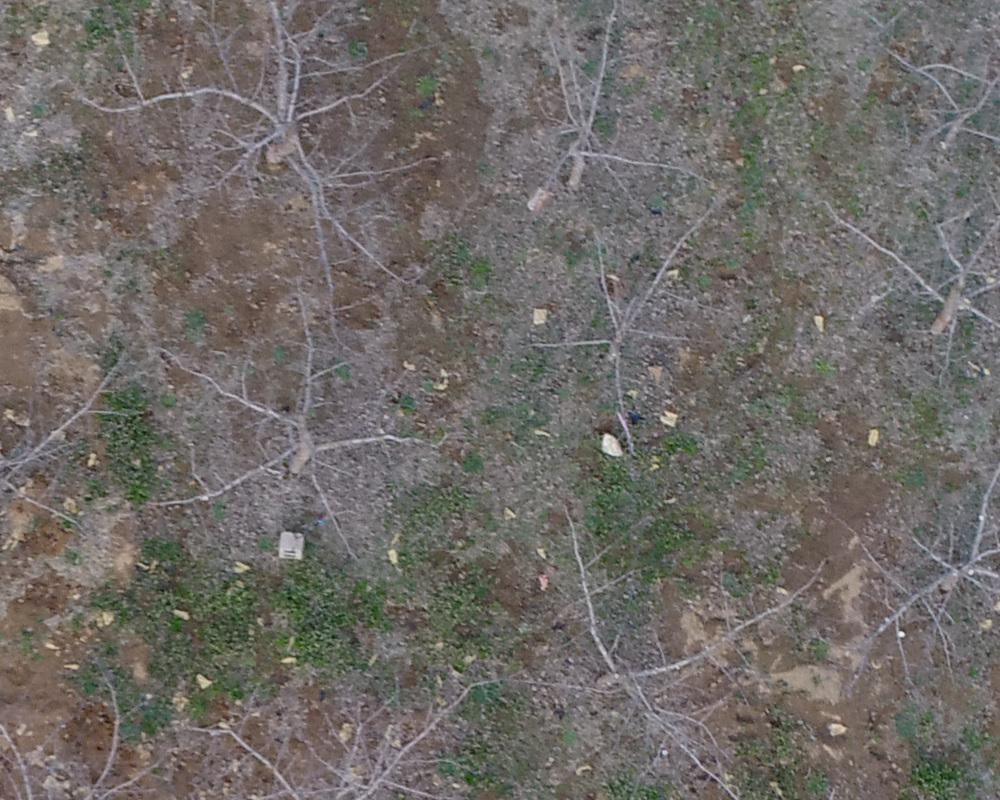apple: (90, 10, 419, 308), (552, 511, 830, 790), (137, 335, 429, 571), (532, 205, 733, 424), (517, 10, 713, 196), (858, 404, 990, 654), (827, 161, 990, 363), (10, 338, 111, 567), (852, 31, 990, 161)
